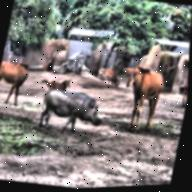boar: (29, 78, 119, 149)
